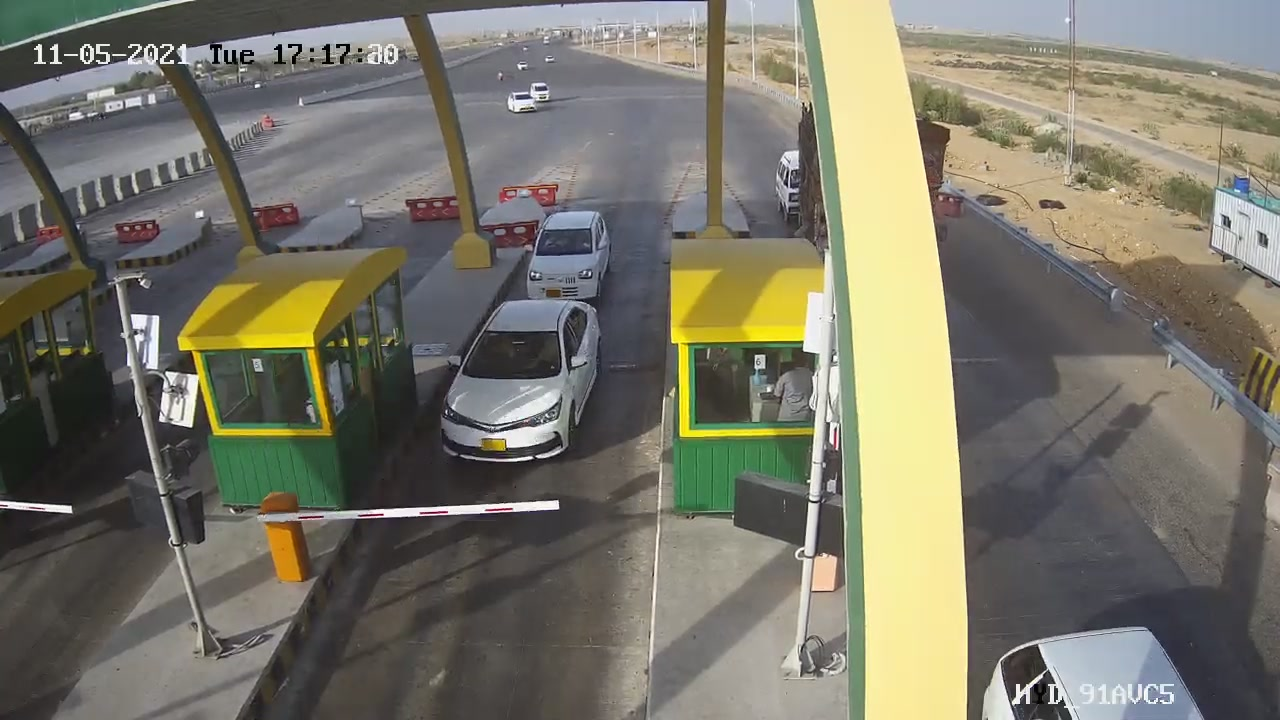F1: (420, 290, 617, 478), (507, 200, 629, 317)
